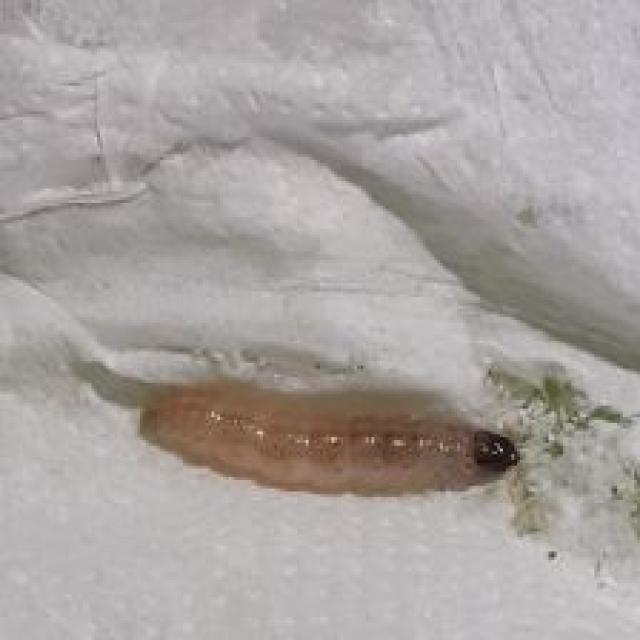white mucus: (122, 388, 530, 500)
